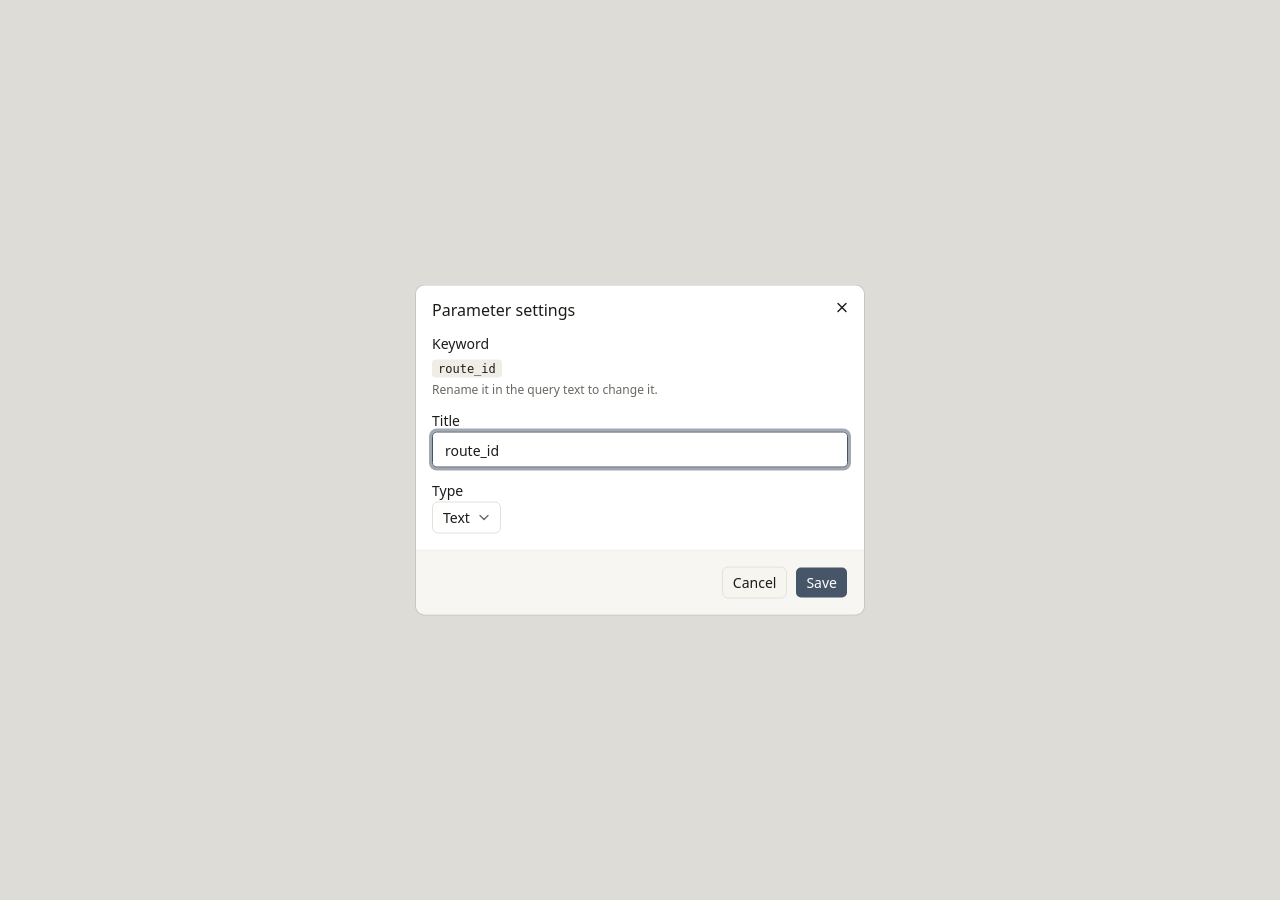
it: the parameter settings dialog › offers the dropdown values field only once the type is a dropdown
The image size is (1280, 900).
Expected: the field labelled "Values" is not shown
Click the dropdown named "Type": (466, 518) [432,502,501,534]
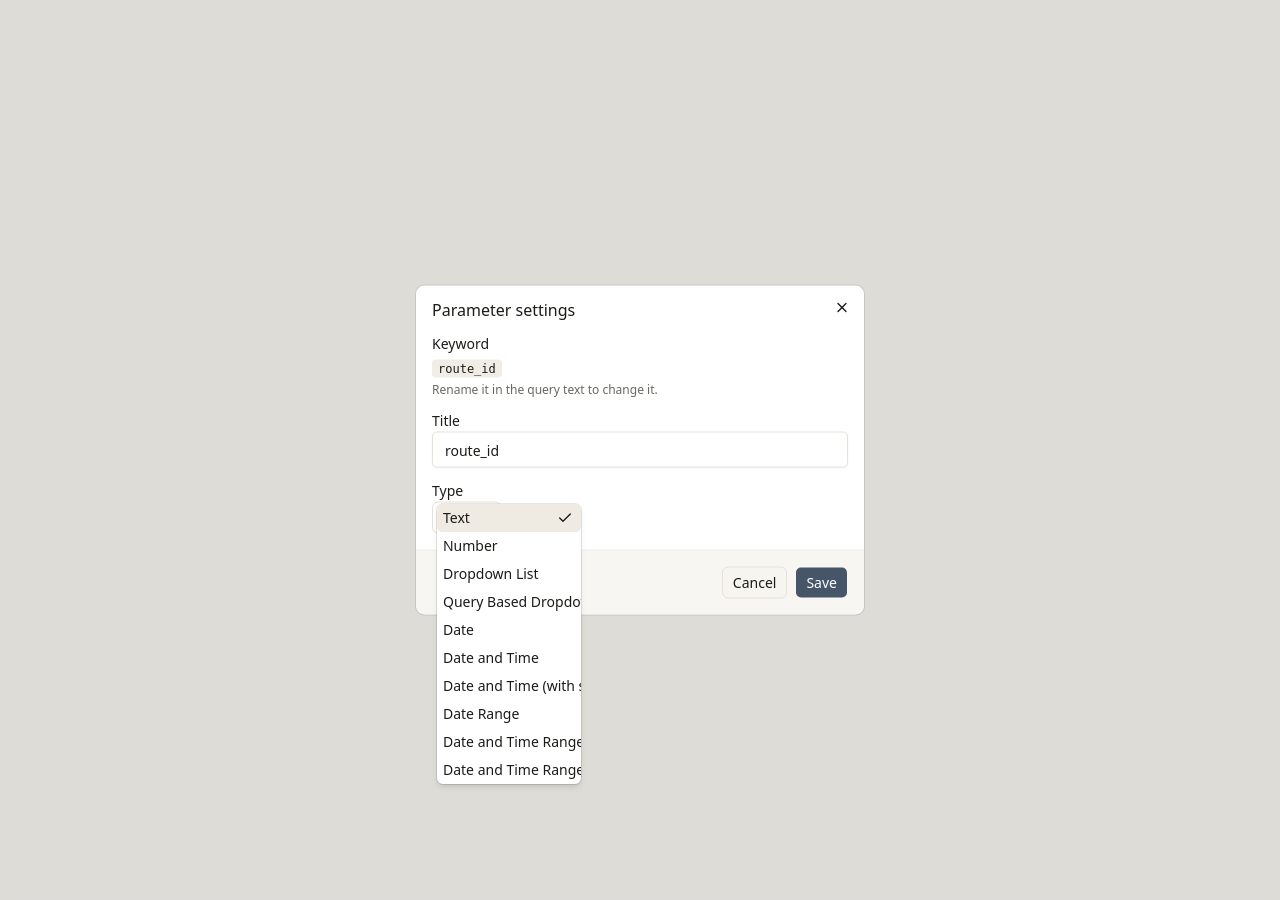
Click the option "Dropdown List": (491, 573) [443,564,539,582]
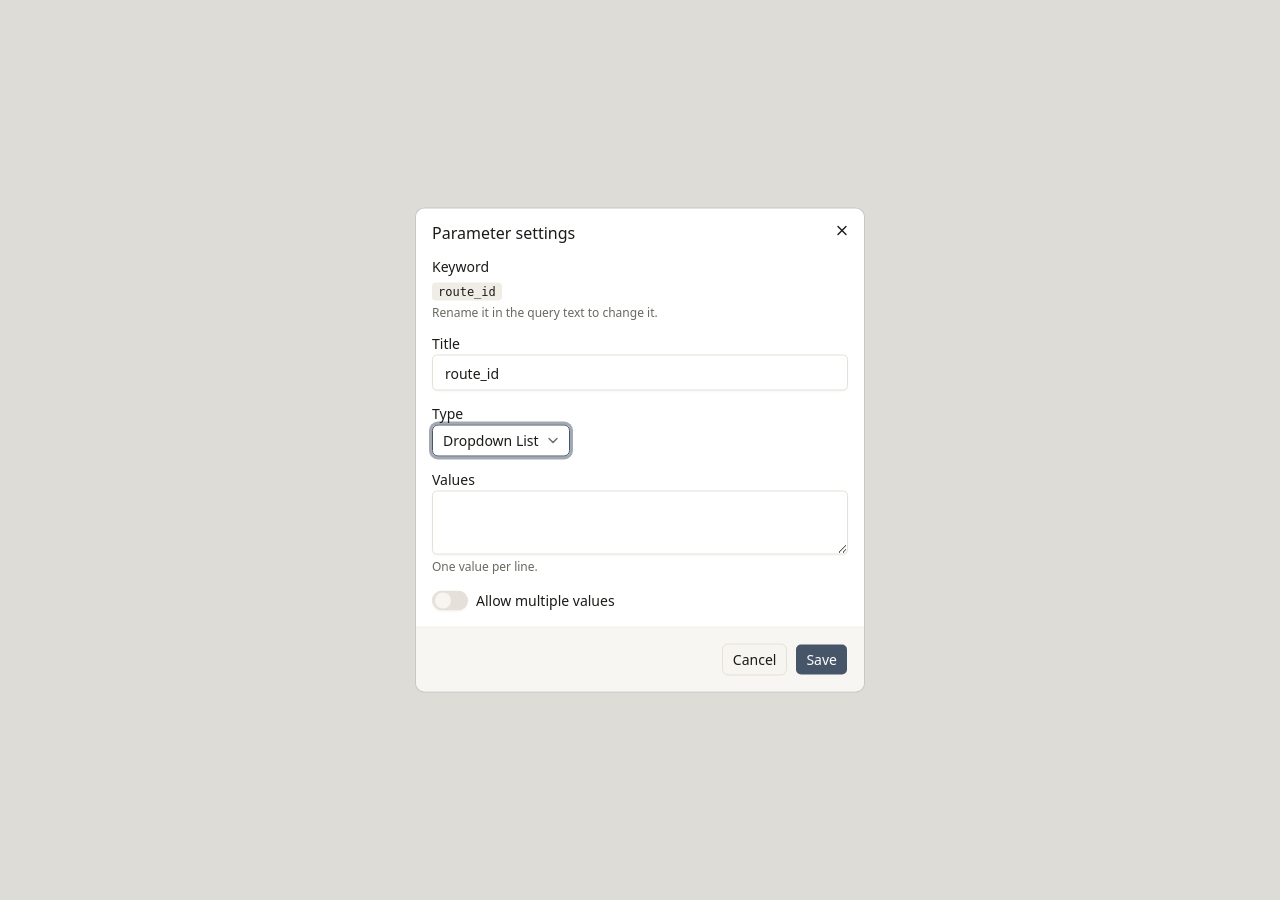
Now the text box labelled "Values" is shown, box [432,490,848,554]
